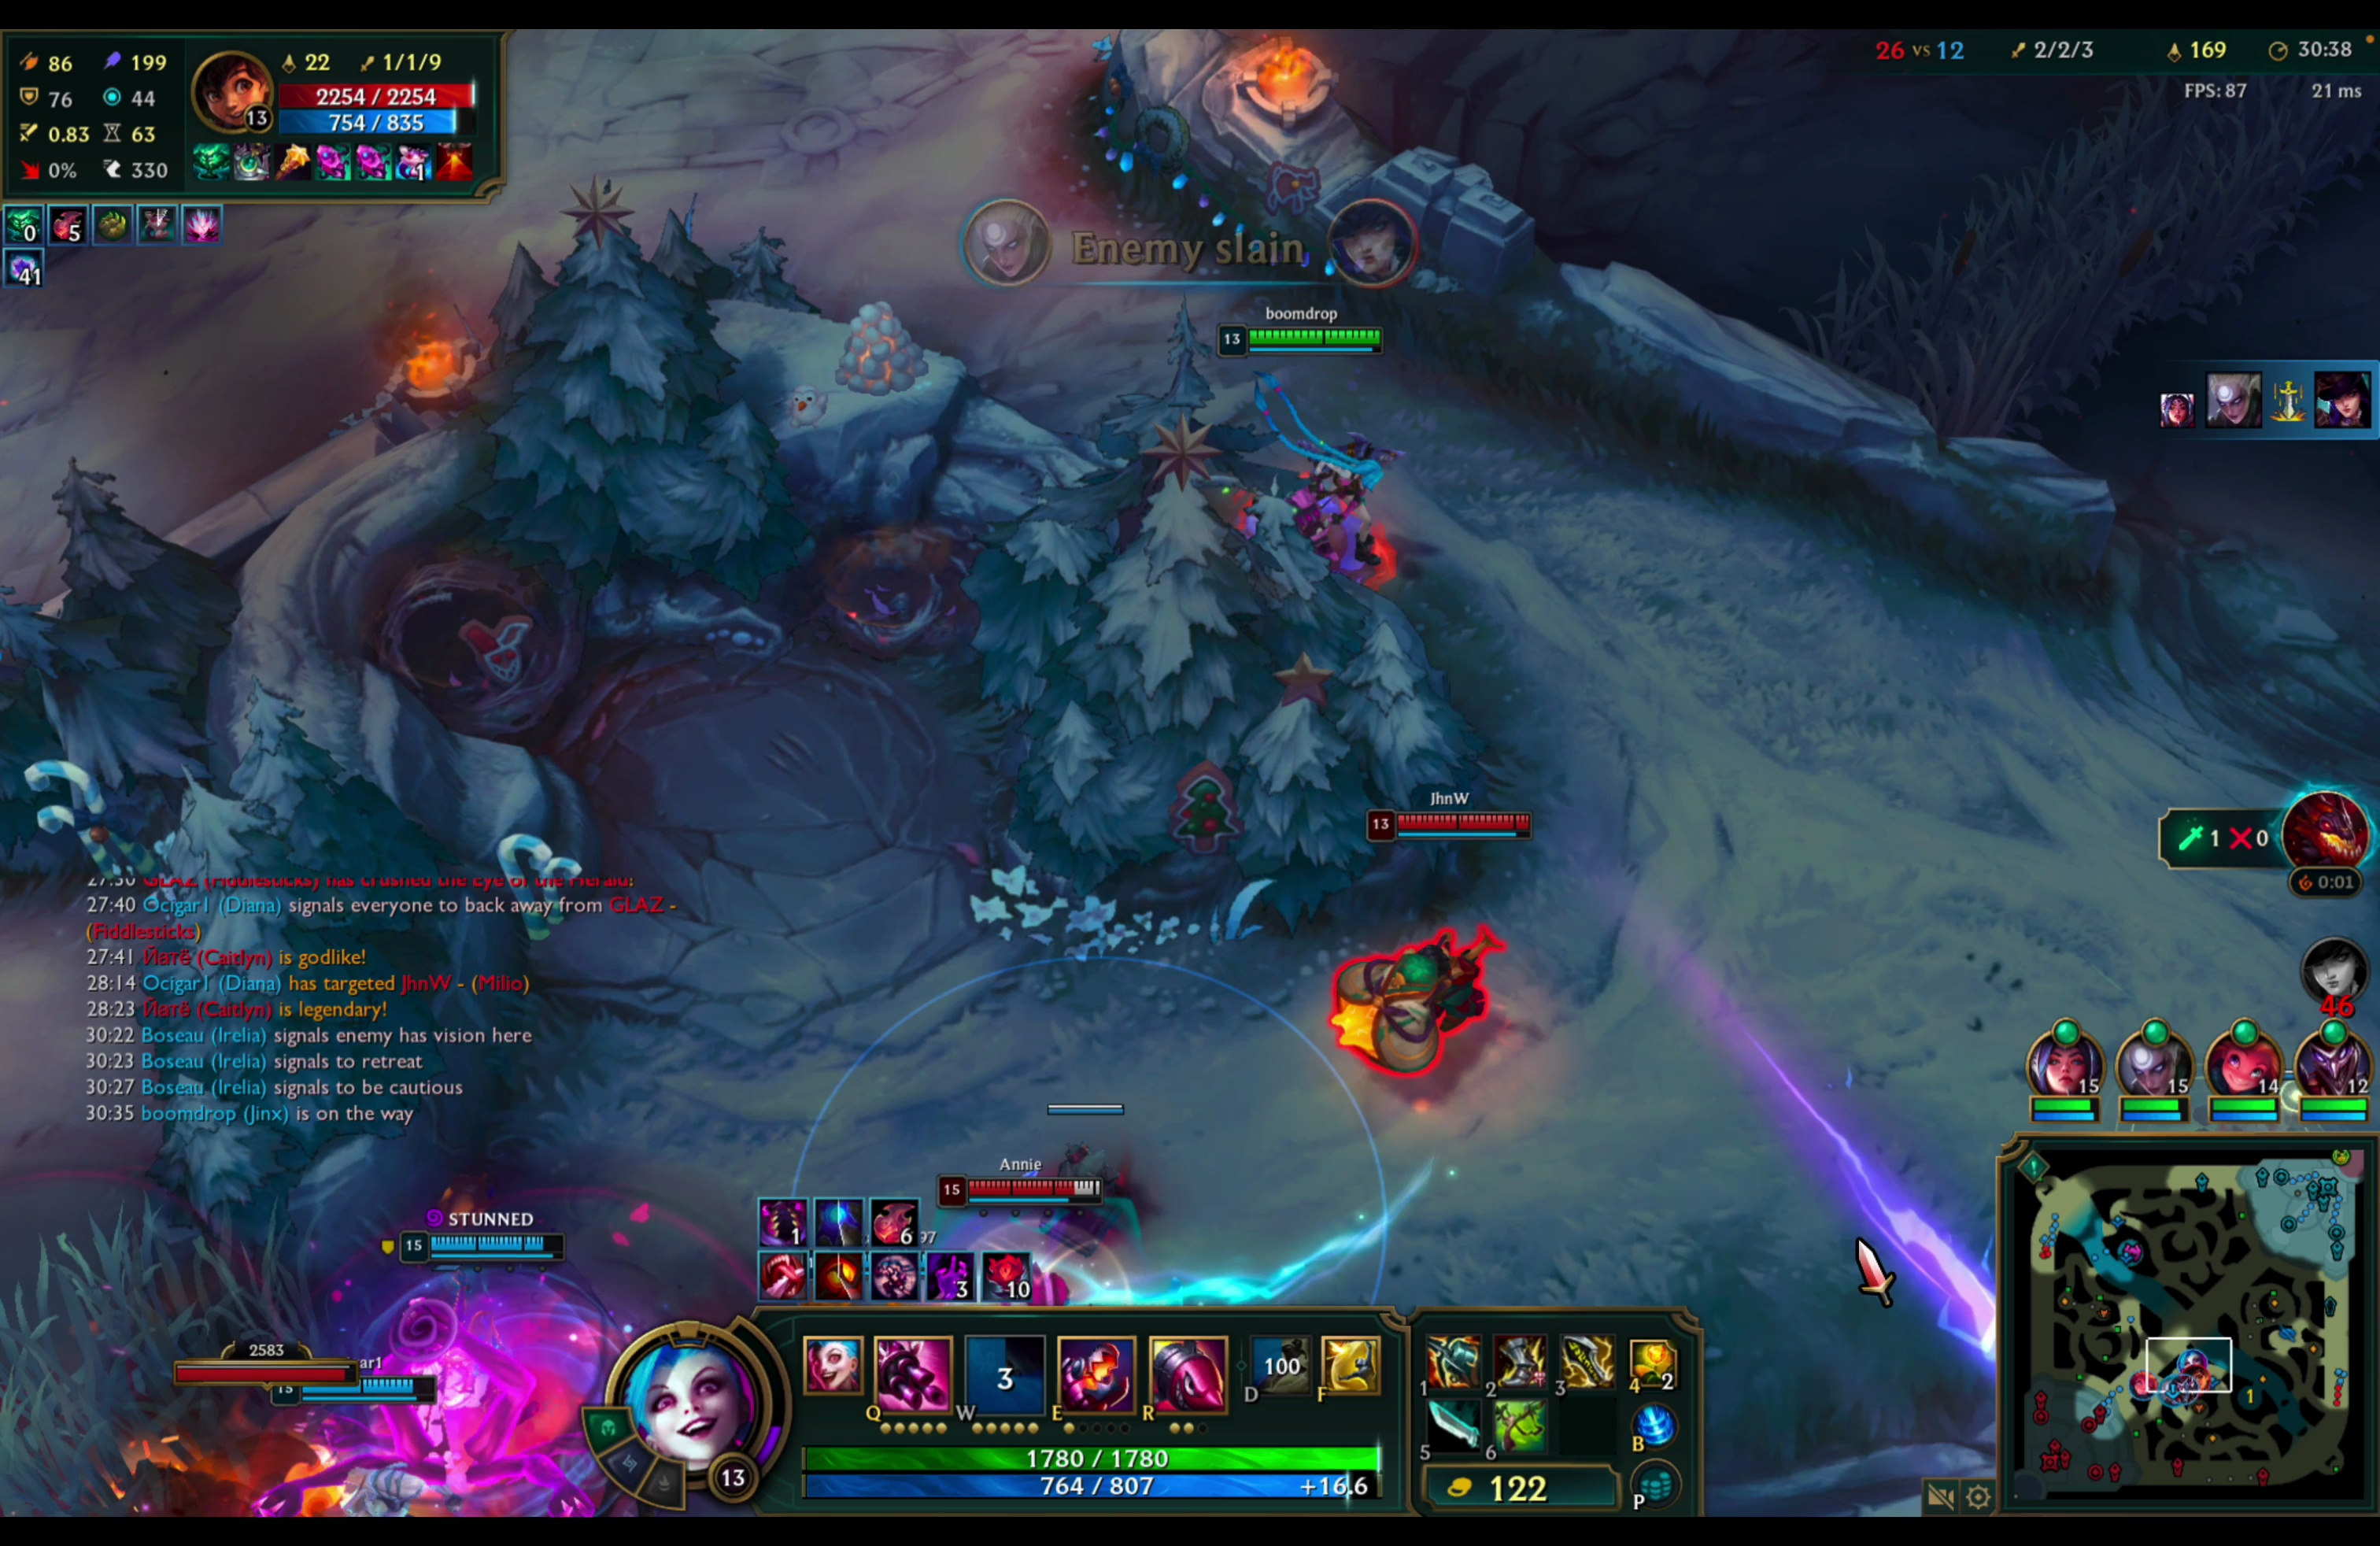JINX_W_PROJECTILE: (1202, 305, 2016, 1374)
